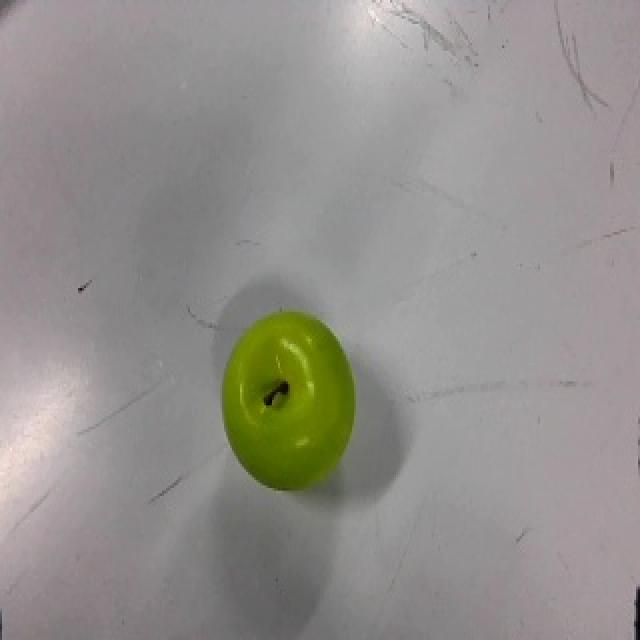apple: (220, 308, 357, 492)
